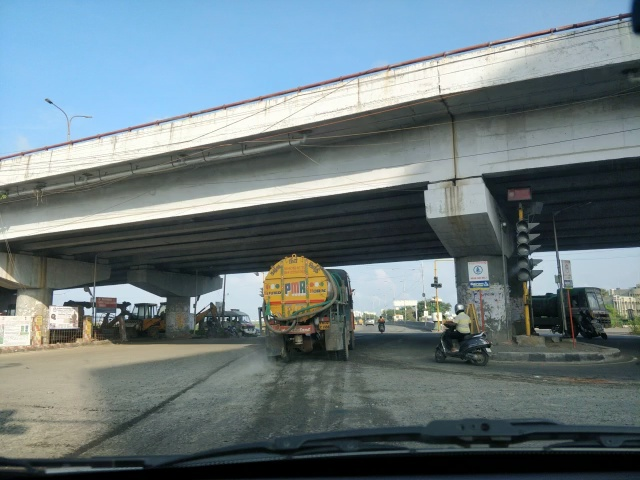motorbike: (431, 303, 497, 368), (572, 307, 616, 343), (376, 314, 391, 335)
tractor: (134, 298, 226, 337), (115, 300, 171, 342)
truck: (257, 251, 367, 364), (521, 284, 615, 335)
